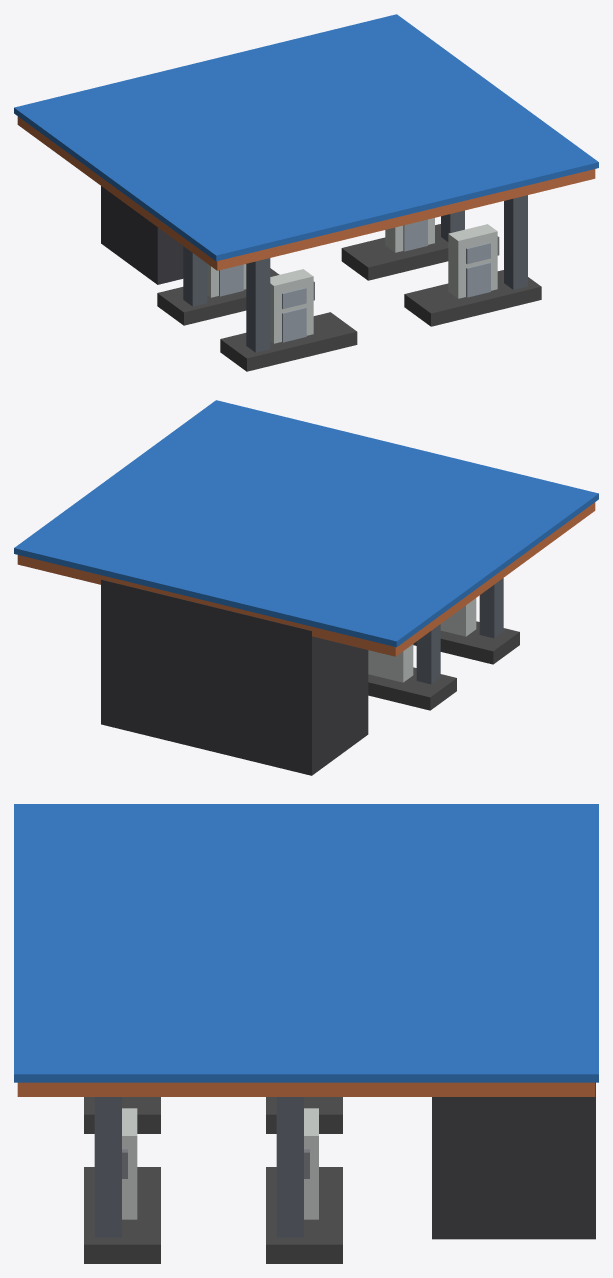
File: Building_09.fbx
The picture shows the model from 3 angles, top to bottom: view 1: azimuth 30°, elevation 25°; view 2: azimuth 150°, elevation 25°; view 3: azimuth 270°, elevation 25°; orthographic projection. The views are drawn at different scales.
Visible parts, largest first — view 1: polySurface1949; view 2: polySurface1949; view 3: polySurface1949.
Part boxes in pixels (<box>): polySurface1949: <box>14,14,598,371</box>; polySurface1949: <box>14,400,598,775</box>; polySurface1949: <box>14,804,598,1263</box>.
Bounding box in the file's own units: 2.22 × 0.8664 × 2.03.
